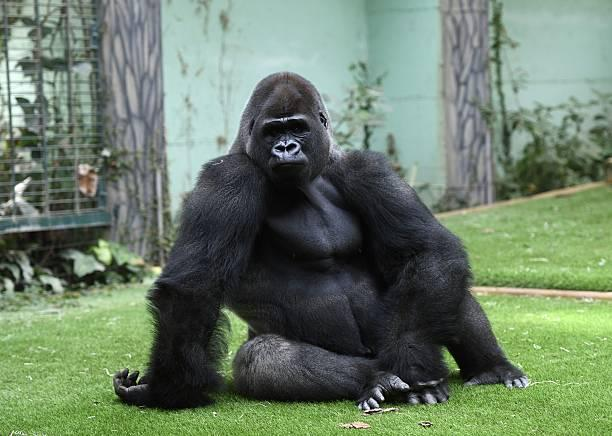gorille_Autres: (122, 30, 555, 436)
